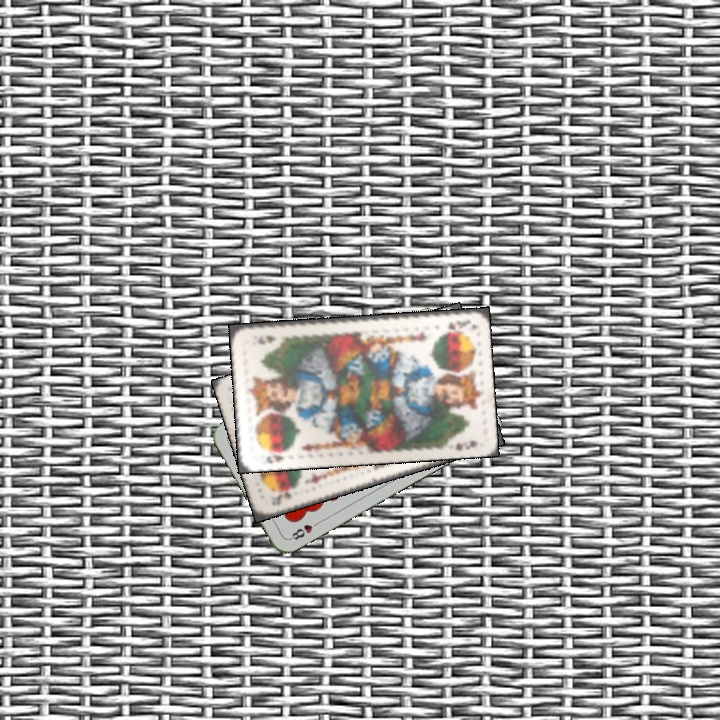H8: (286, 517, 323, 543)
SK: (262, 445, 292, 466), (267, 486, 294, 508), (444, 316, 473, 333)
